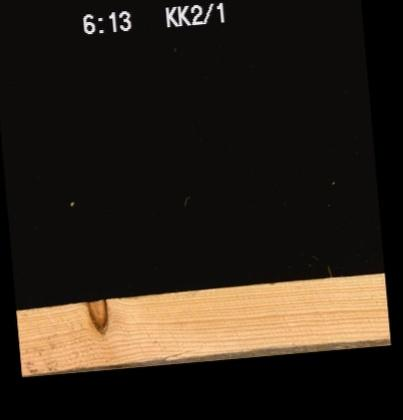edge_knot: (84, 298, 108, 336)
split: (158, 345, 196, 360)
